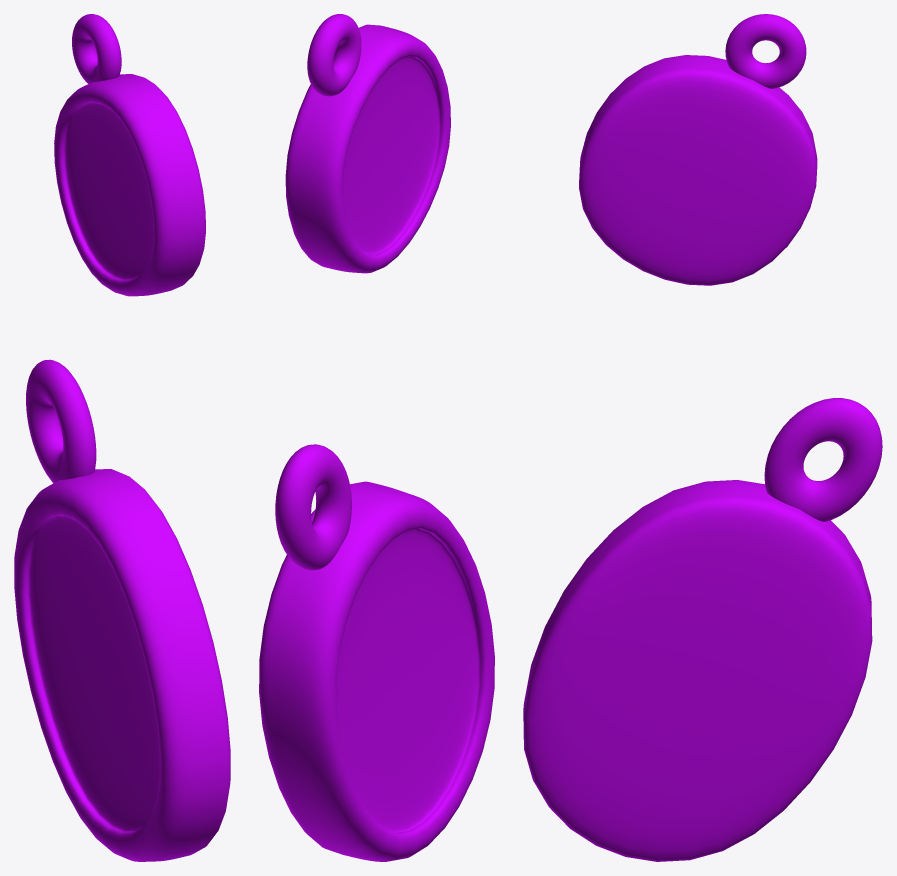
File: relojes2.fbx
The picture shows the model from 3 angles, left to right: view 1: azimuth 30°, elevation 25°; view 2: azimuth 150°, elevation 25°; view 3: azimuth 270°, elevation 25°; orthographic projection. The views are drawn at different scales.
Parts seen in each view (by area): view 1: polySurface1; view 2: polySurface1; view 3: polySurface1.
Boxes of the visible parts, left/top/right/bottom form: polySurface1: left=14, top=14, right=230, bottom=861; polySurface1: left=259, top=14, right=494, bottom=861; polySurface1: left=523, top=14, right=882, bottom=861.
Bounding box in the file's own units: 0.3351 × 3.65 × 1.42.
